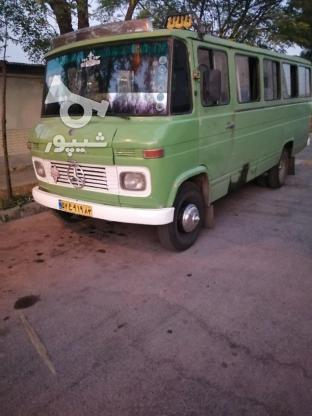car: (58, 198, 94, 215)
